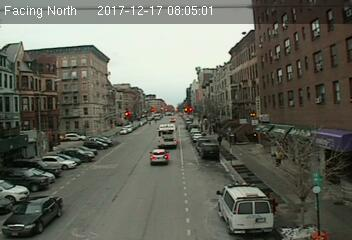bus: (156, 123, 178, 148)
car: (1, 196, 68, 237), (199, 142, 220, 159), (148, 148, 169, 164)
police: (218, 182, 274, 235)
